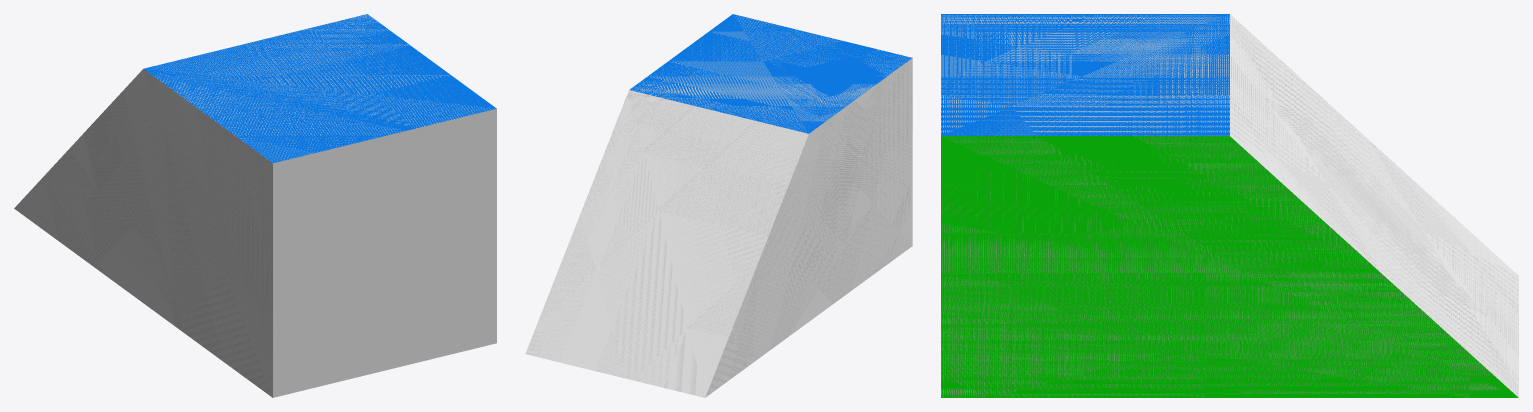
File: Figura11.dae
3 renders of one model, left to right at view 1: azimuth 30°, elevation 25°; view 2: azimuth 150°, elevation 25°; view 3: azimuth 270°, elevation 25°, orthographic. The views are drawn at different scales.
Visible parts, largest first — view 1: SketchUp (×3); view 2: SketchUp (×2); view 3: SketchUp (×3).
Part boxes in pixels (x1,y1,x2,y2): SketchUp (×3): (14, 14, 496, 397); SketchUp (×2): (525, 14, 912, 397); SketchUp (×3): (941, 14, 1518, 397).
Bounding box in the file's own units: 7.87 × 15.75 × 7.87.
